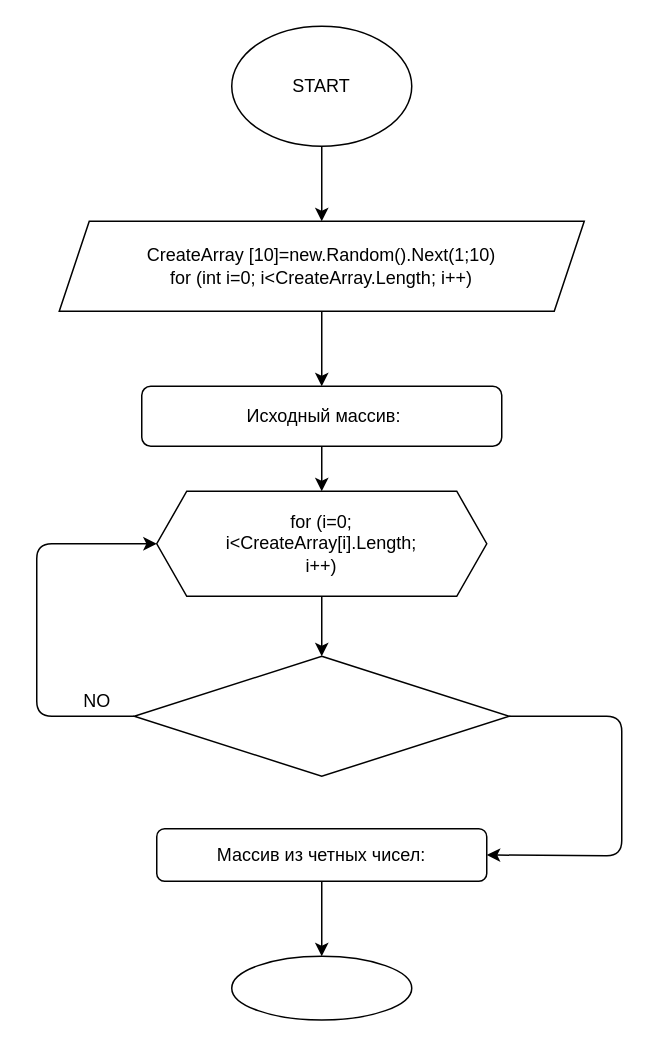
This 660x1047 diagram has some shape labels left out. The shapes that lost their labels are listed below. From the top down, each one's centre as x and y in pixels, then its label:
(321,715): if CreateArray[i]%==0
(321,987): Finish
